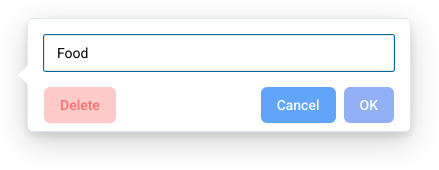
Test: ContextMenu › enables OK when the name is changed
Replace the text in the field named "Rename category" with "Groceries" at (219, 53), box [44, 35, 394, 71]
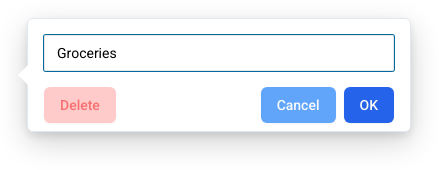
Expected: the button "OK" is enabled, [344, 87, 394, 123]
